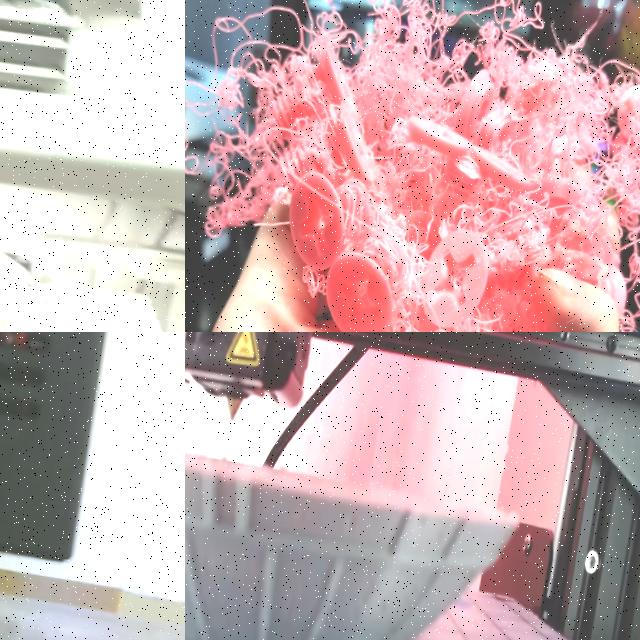spaghetti: (185, 0, 640, 332)
